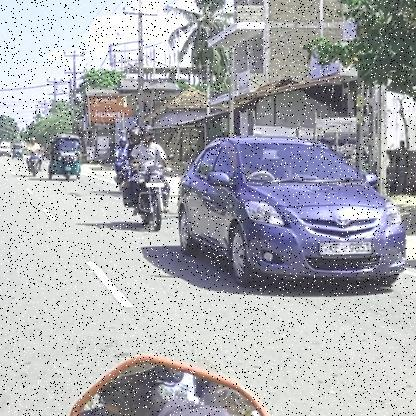motorcycle: (117, 163, 174, 234)
